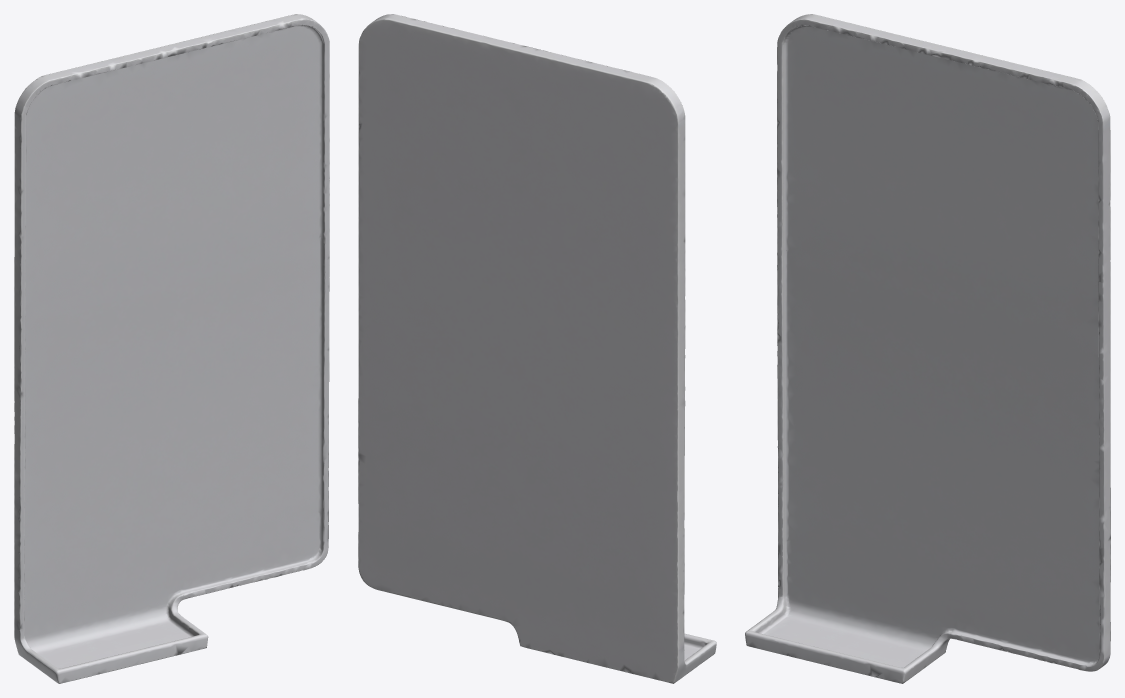
The model's file is Meshy_AI_칸막이_20261124_texture.fbx.
The picture shows the model from 3 angles, left to right: view 1: azimuth 30°, elevation 25°; view 2: azimuth 150°, elevation 25°; view 3: azimuth 330°, elevation 25°; orthographic projection. The views are drawn at different scales.
Visible parts, largest first — view 1: Mesh_0; view 2: Mesh_0; view 3: Mesh_0.
Part boxes in pixels (box(x1,y1,x2,y2)): Mesh_0: box(14, 14, 329, 683); Mesh_0: box(358, 14, 716, 683); Mesh_0: box(745, 14, 1110, 683).
Bounding box in the file's own units: 107 × 190 × 24.43.
Materials: 1 (1 with a texture image).
